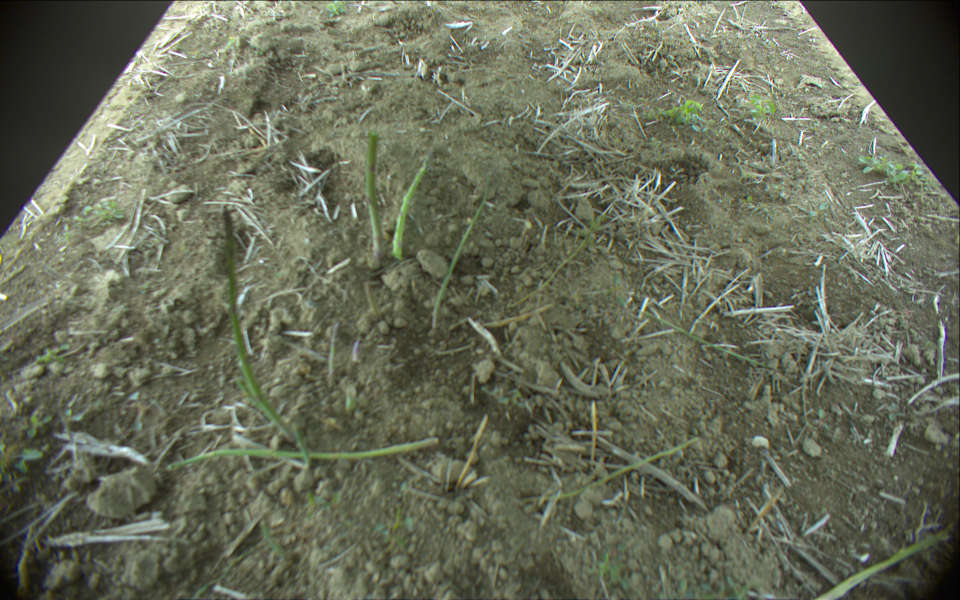aspa: (223, 207, 296, 444), (529, 438, 700, 506), (809, 524, 958, 600), (168, 437, 436, 474), (433, 180, 494, 329), (389, 148, 436, 258), (362, 127, 384, 258), (294, 423, 310, 464)
